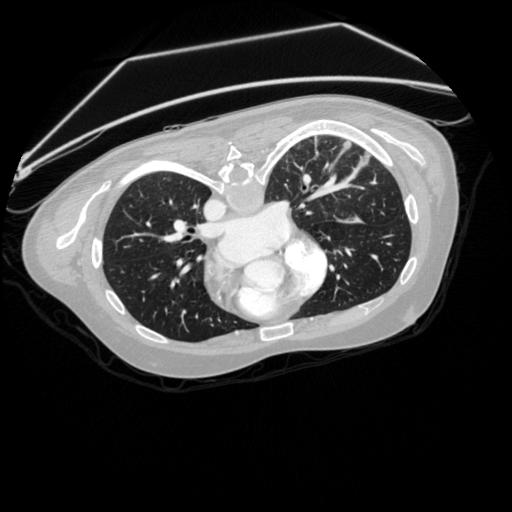nodule: (342, 138, 358, 154)
